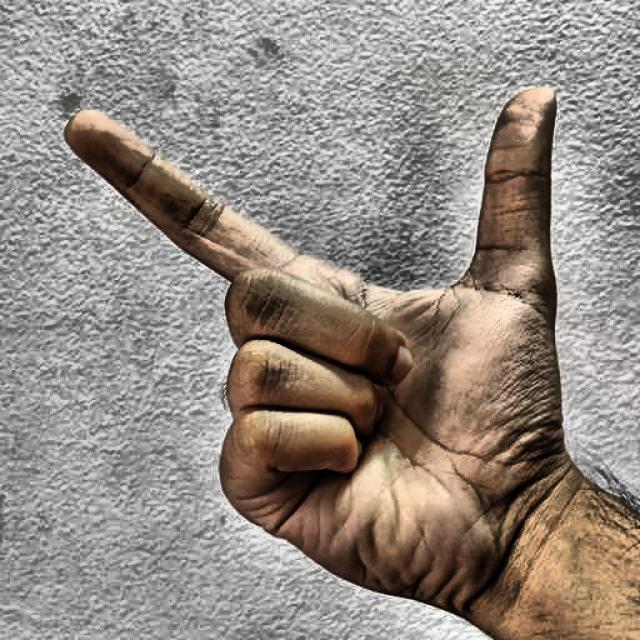ChandraBindu: (39, 21, 592, 616)
